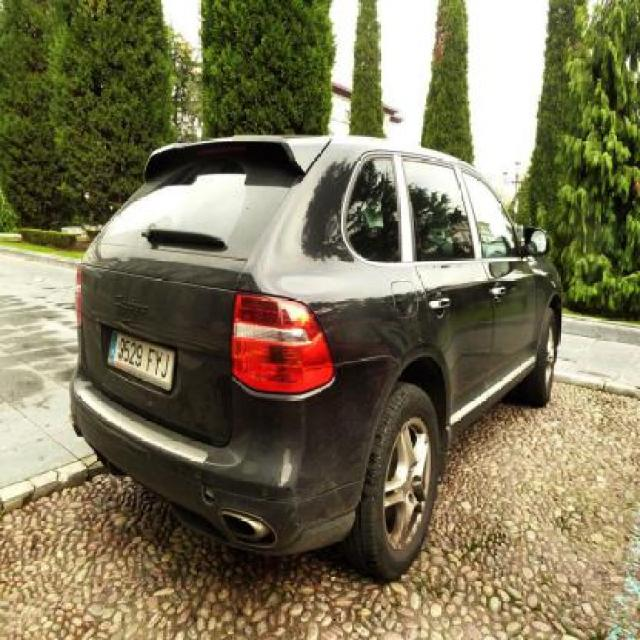License-Plates: (102, 326, 180, 396)
